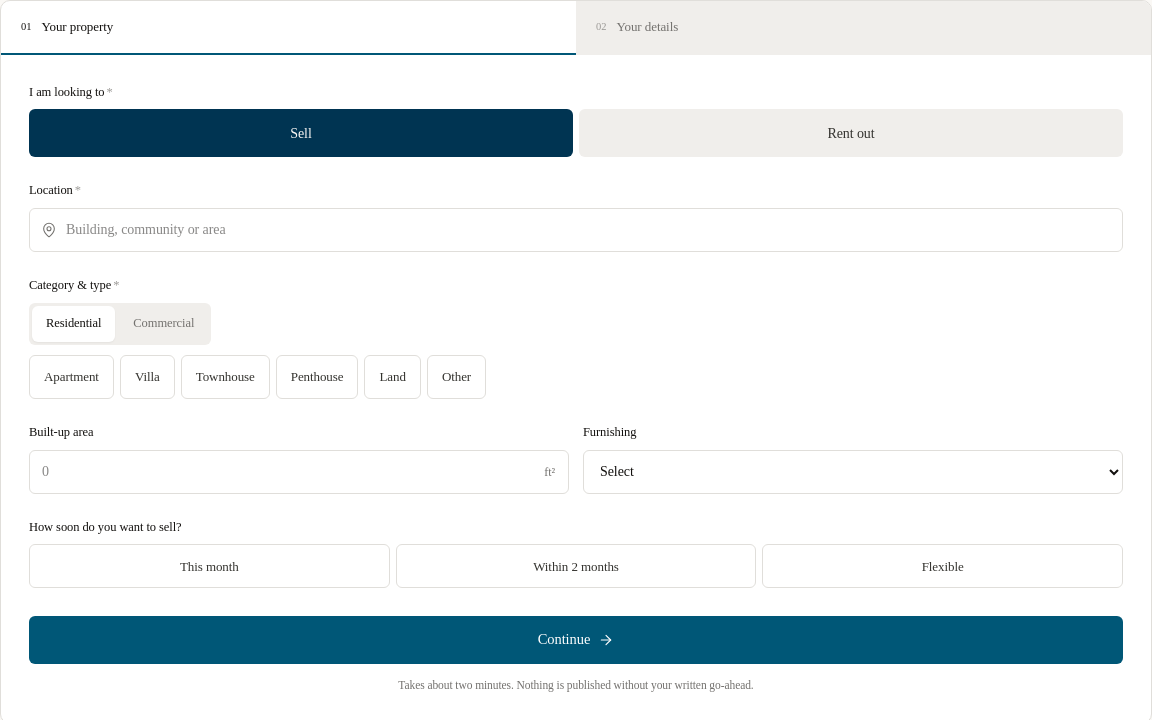
Test: ListPropertyForm › autocompletes the location and routes the picked area through
Step 1. Type "saad" into the dropdown labelled "Location*" → (576, 230), box [29,208,1123,252]
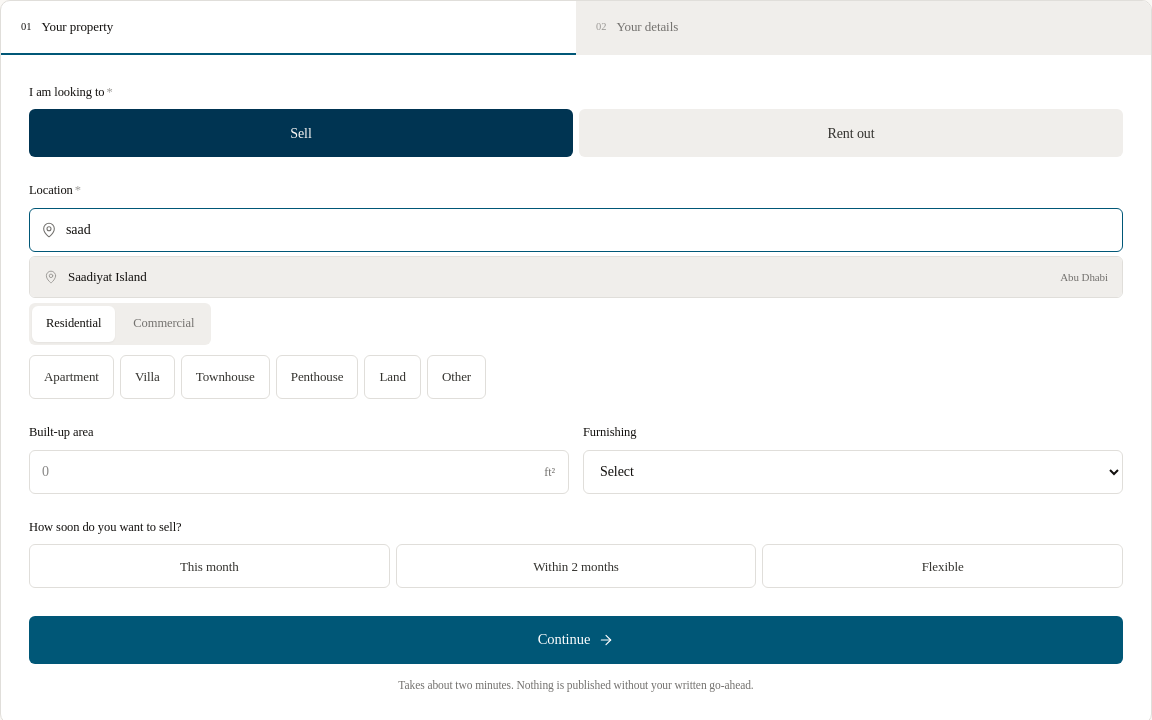
Step 2. Click the option "Saadiyat Island Abu Dhabi" → (107, 276), box [30,257,1122,296]
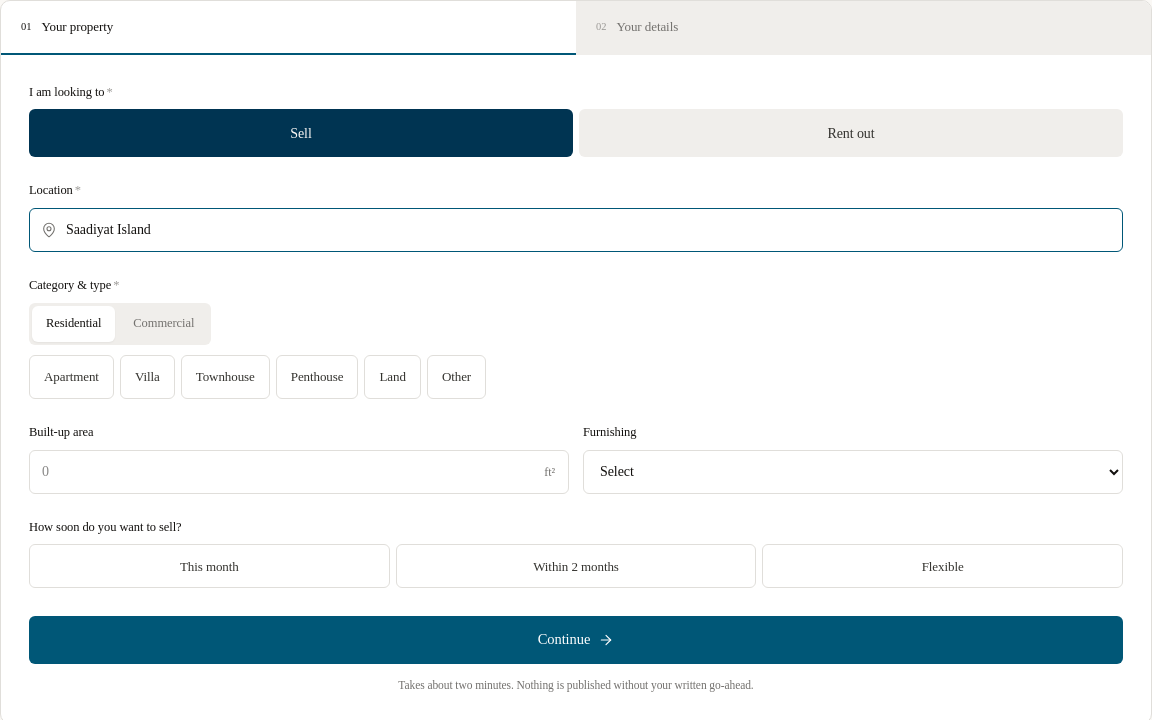
Result: the dropdown labelled "Location*" holds "Saadiyat Island" at [29,208,1123,252]
